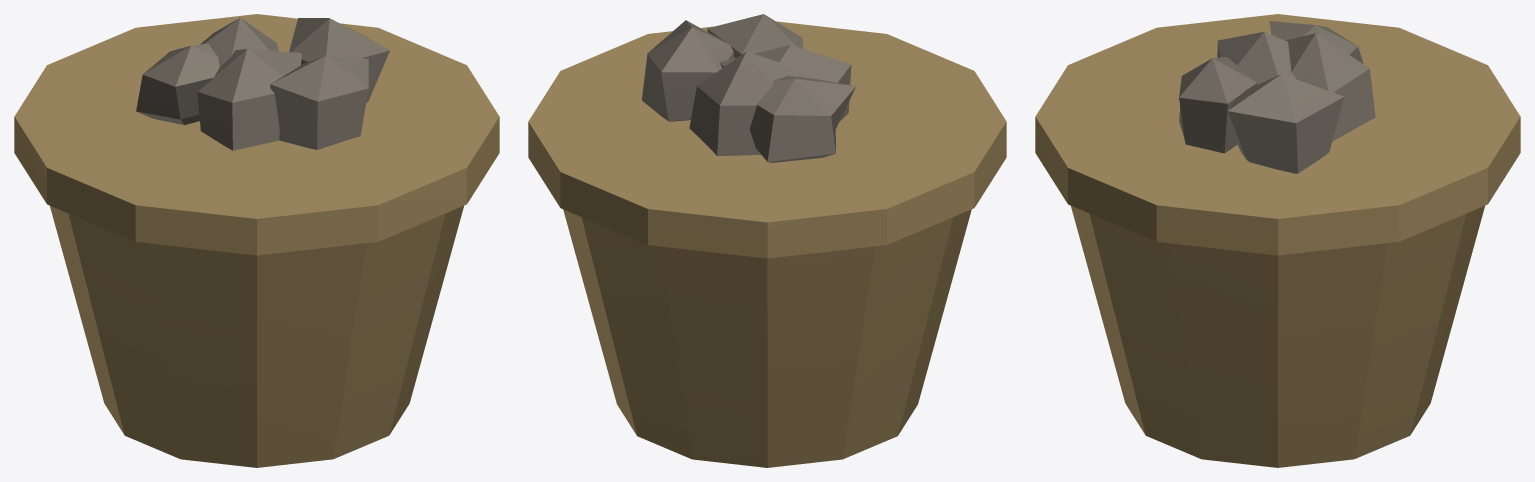
Rendered from caral_basket_lod0.glb.
3 renders of one model, left to right at view 1: azimuth 30°, elevation 25°; view 2: azimuth 150°, elevation 25°; view 3: azimuth 270°, elevation 25°, orthographic.
Visible parts, largest first — view 1: GEO-Props_basket_LOD0; view 2: GEO-Props_basket_LOD0; view 3: GEO-Props_basket_LOD0.
Part boxes in pixels (bbox=[...]): GEO-Props_basket_LOD0: bbox=[14, 14, 499, 467]; GEO-Props_basket_LOD0: bbox=[528, 14, 1006, 467]; GEO-Props_basket_LOD0: bbox=[1035, 14, 1520, 467].
Bounding box in the file's own units: 0.54 × 0.4561 × 0.54.
